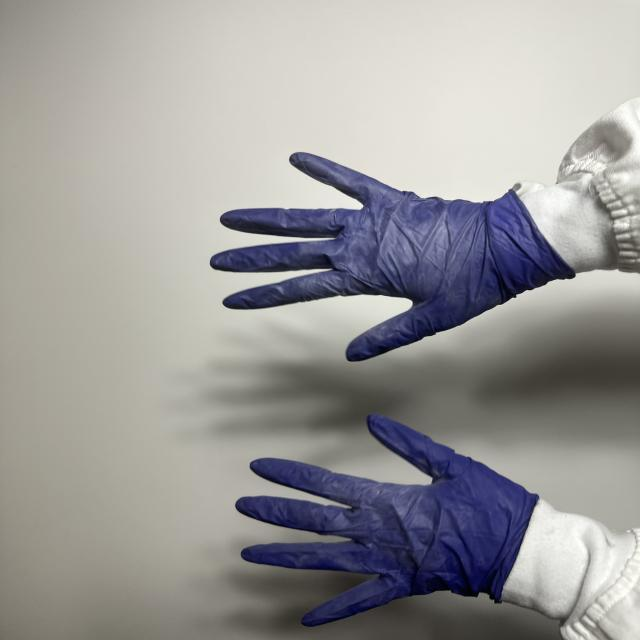gloves_contaminated: (210, 153, 574, 361), (236, 414, 538, 626)
